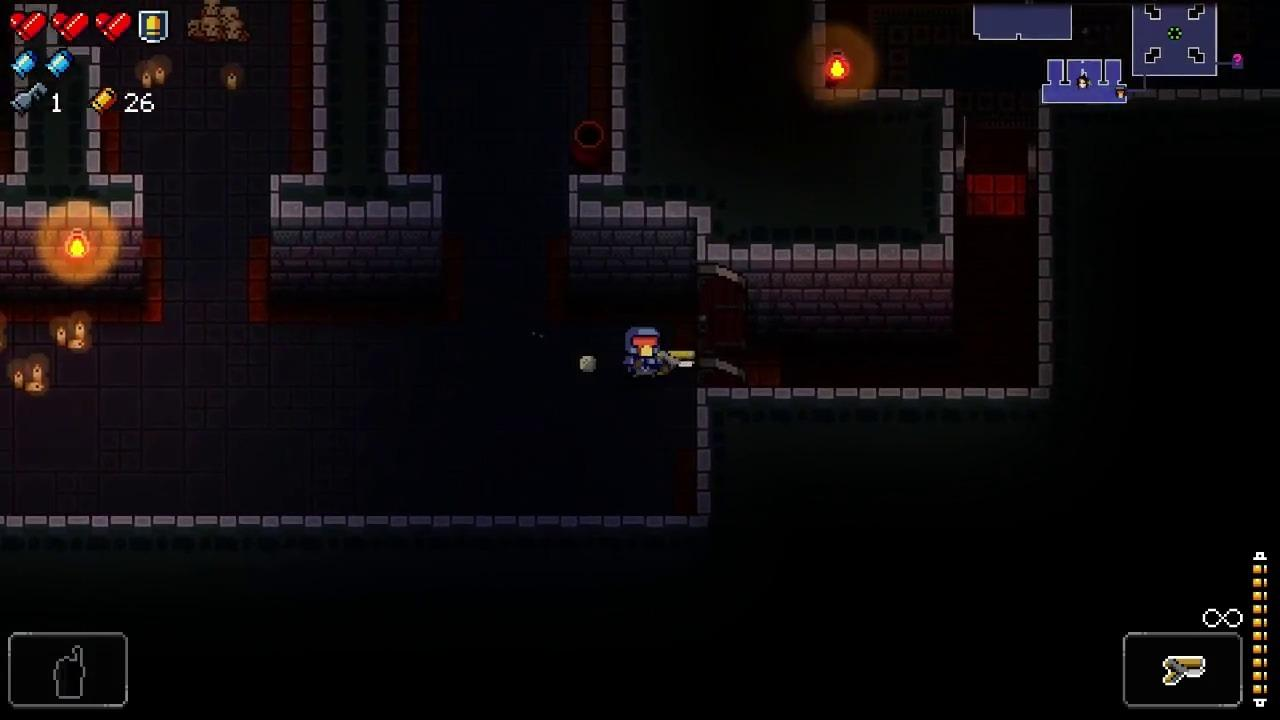player: (625, 327, 661, 380)
unlocked_door: (695, 264, 748, 388), (952, 114, 969, 220), (1026, 119, 1040, 221)
